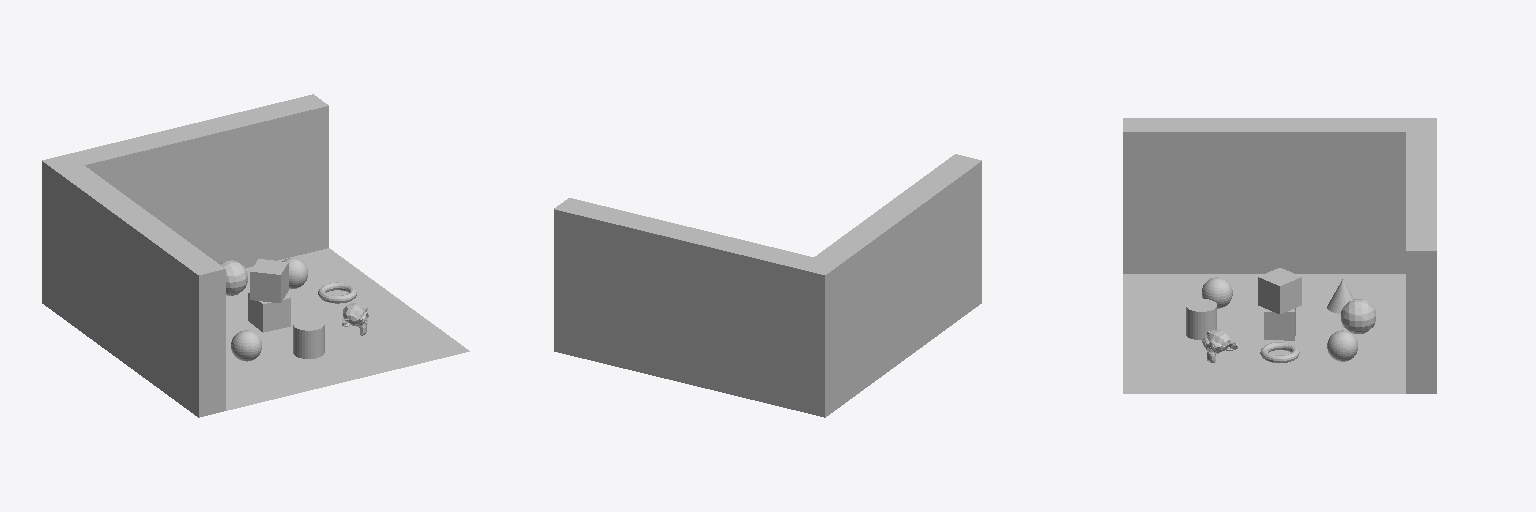
3 views of the same model, side by side, from view 1: azimuth 30°, elevation 25°; view 2: azimuth 150°, elevation 25°; view 3: azimuth 270°, elevation 25° (orthographic).
Parts seen in each view (by area): view 1: Wall.Left, Wall.Back, Plane, Cube.001, Cylinder, Cube.000, Sphere, Mball, Suzanne, Torus; view 2: Wall.Back, Wall.Left; view 3: Wall.Left, Plane, Wall.Back, Cube.001, Cylinder, Mball, Cube.000, SurfSphere, Sphere, Suzanne, Torus.
Boxes of the visible parts, box(x1,y1,x2,y2) form: Wall.Left: box(42, 154, 225, 417); Wall.Back: box(69, 94, 328, 267); Plane: box(226, 248, 469, 410); Cube.001: box(250, 259, 288, 302); Cylinder: box(293, 317, 324, 358); Cube.000: box(248, 292, 290, 332); Sphere: box(231, 330, 261, 361); Mball: box(220, 260, 247, 295); Suzanne: box(342, 303, 368, 335); Torus: box(318, 282, 356, 303); Wall.Back: box(554, 198, 813, 410); Wall.Left: box(798, 154, 981, 417); Wall.Left: box(1123, 118, 1436, 273); Plane: box(1123, 274, 1405, 393); Wall.Back: box(1406, 132, 1436, 393); Cube.001: box(1258, 268, 1301, 313); Cylinder: box(1186, 299, 1216, 339); Mball: box(1341, 299, 1375, 333); Cube.000: box(1264, 308, 1295, 340); SurfSphere: box(1327, 330, 1357, 361); Sphere: box(1202, 277, 1232, 308); Suzanne: box(1201, 330, 1237, 362); Torus: box(1260, 342, 1299, 362).
Bounding box in the file's own units: 20 × 10 × 20.